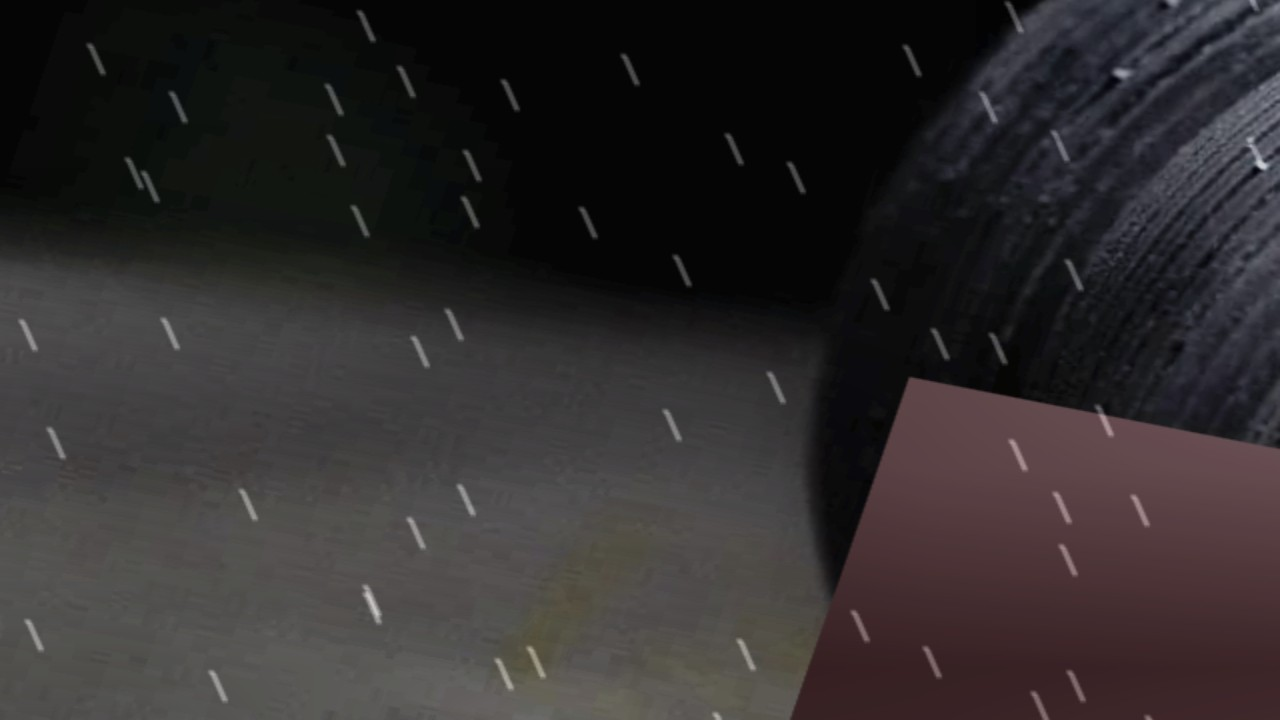wheel: (641, 0, 1280, 720)
